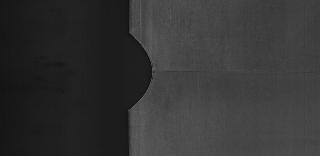welding line: (144, 68, 320, 78)
